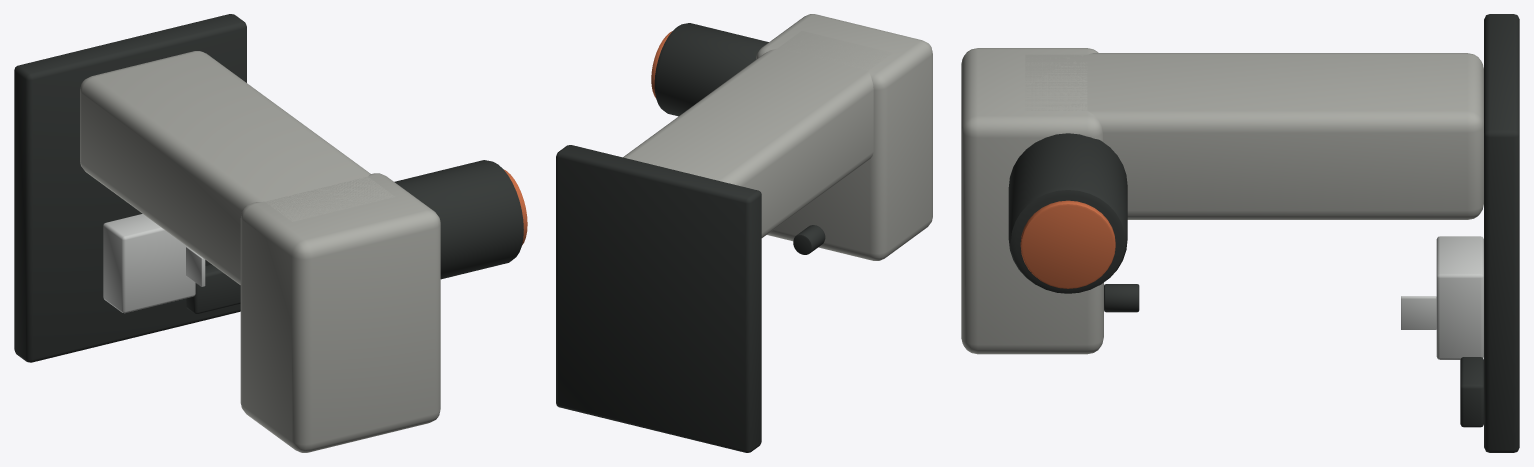
File: crimping_press_body.glb
3 renders of one model, left to right at view 1: azimuth 30°, elevation 25°; view 2: azimuth 150°, elevation 25°; view 3: azimuth 270°, elevation 25°, orthographic. The views are drawn at different scales.
Parts seen in each view (by area): view 1: crimping_press_body; view 2: crimping_press_body; view 3: crimping_press_body.
Boxes of the visible parts, box(x1,y1,x2,y2) form: crimping_press_body: box(14, 14, 527, 452); crimping_press_body: box(556, 14, 932, 452); crimping_press_body: box(961, 14, 1519, 452).
Size of the model in its own units: 0.318 by 0.3 by 0.47.
